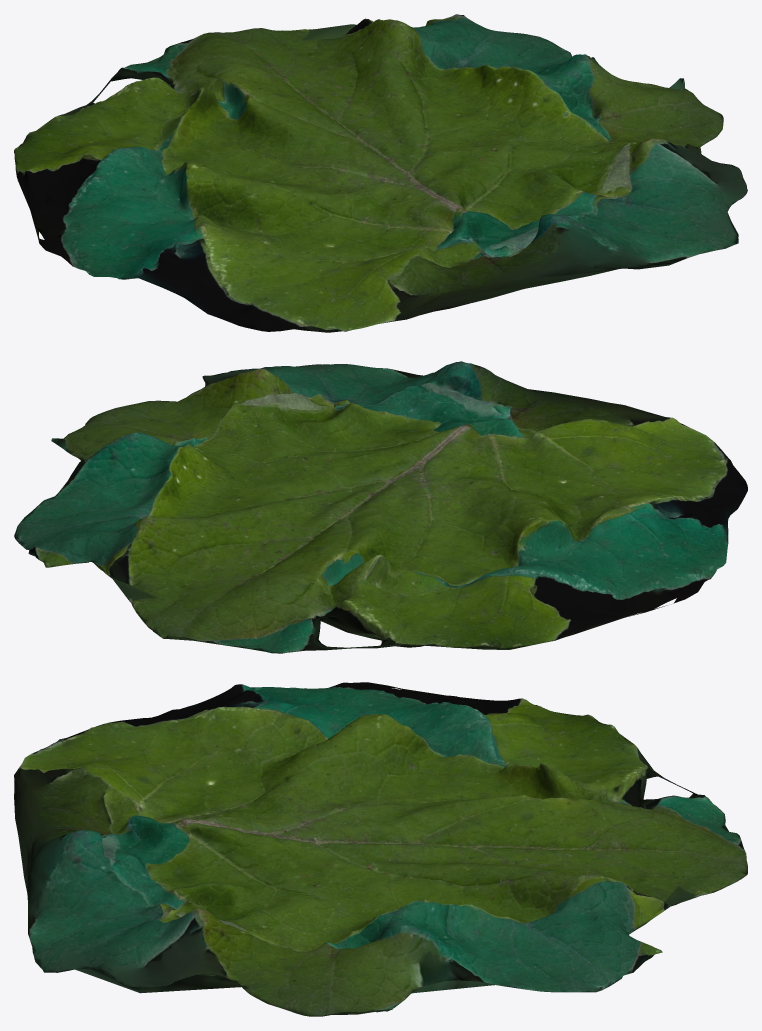
The model's file is leaf-05.glb.
3 renders of one model, top to bottom at view 1: azimuth 30°, elevation 25°; view 2: azimuth 150°, elevation 25°; view 3: azimuth 270°, elevation 25°, orthographic. The views are drawn at different scales.
Parts seen in each view (by area): view 1: Mesh; view 2: Mesh; view 3: Mesh.
Part boxes in pixels (bbox=[...]): Mesh: bbox=[14, 14, 747, 332]; Mesh: bbox=[14, 361, 747, 653]; Mesh: bbox=[14, 682, 747, 1016].
Size of the model in its own units: 0.3702 by 0.0314 by 0.3443.
1 material, 1 textured.
